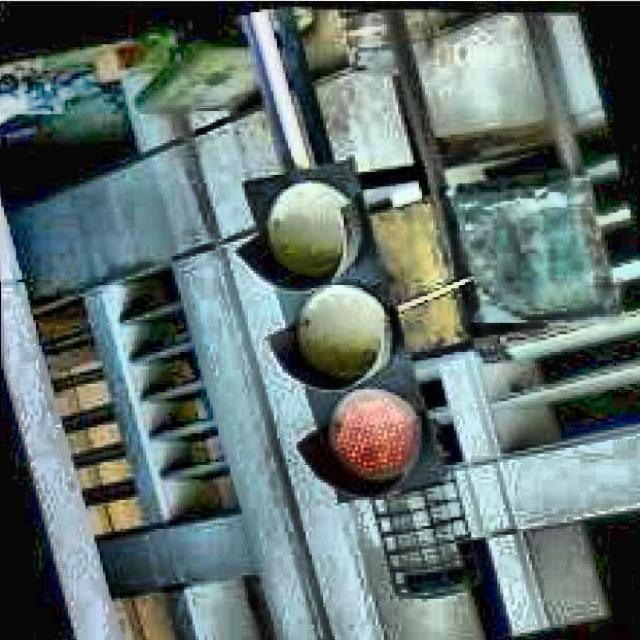red: (245, 172, 444, 496)
